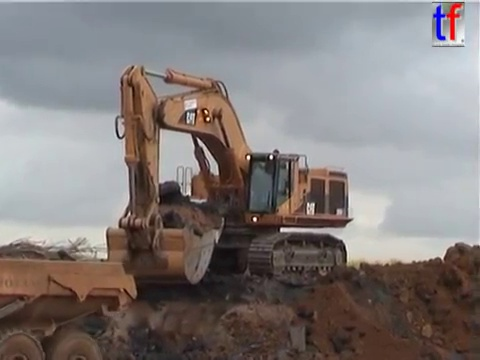excavator: (102, 61, 356, 289)
truck: (1, 250, 140, 360)
